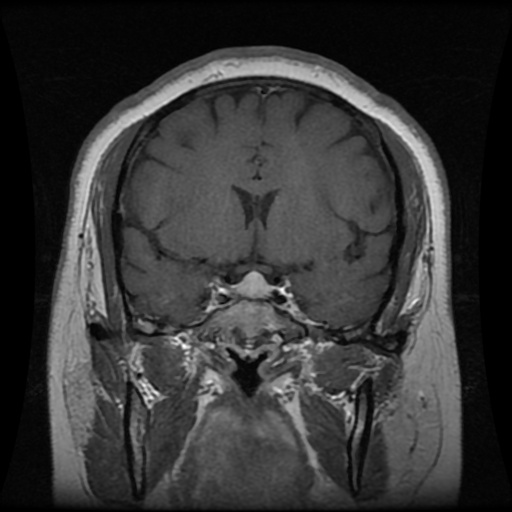pituitary: (230, 272, 270, 298)
